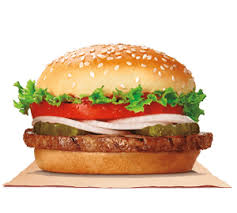hamburger: (22, 41, 215, 177)
